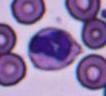N: (28, 27, 80, 71)
